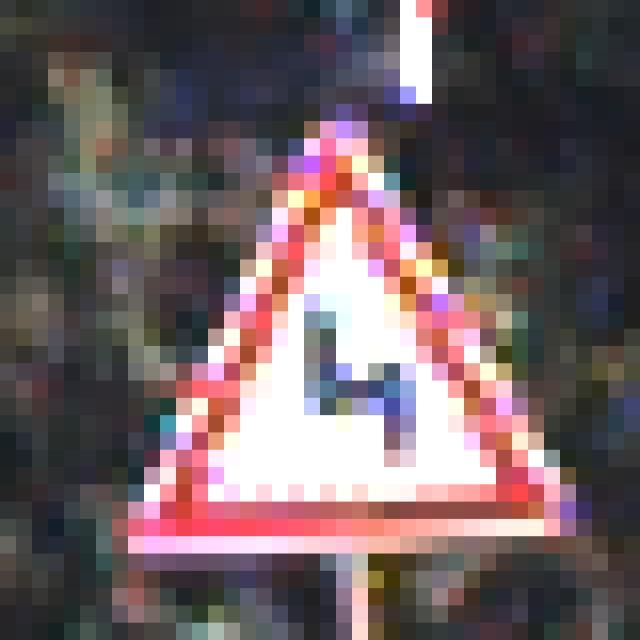left reverse bend: (127, 143, 558, 538)
